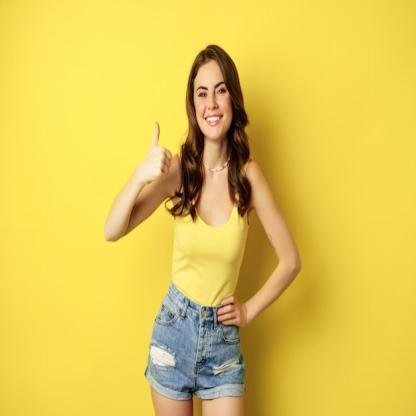thumb_up: (142, 121, 174, 186)
